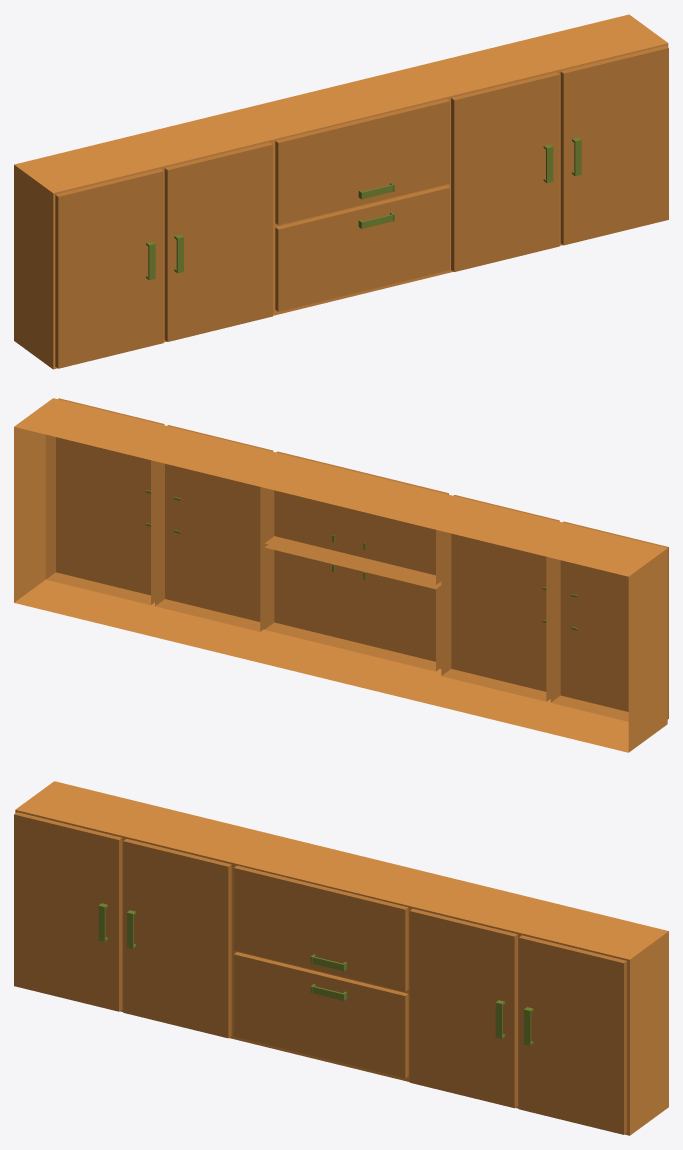
File: 4 lockers.fbx
The picture shows the model from 3 angles, top to bottom: view 1: azimuth 30°, elevation 25°; view 2: azimuth 150°, elevation 25°; view 3: azimuth 330°, elevation 25°; orthographic projection.
Parts seen in each view (by area): view 1: 4 lockers; view 2: 4 lockers; view 3: 4 lockers.
Boxes of the visible parts, x1,y1,x2,y2 form: 4 lockers: [14, 14, 668, 369]; 4 lockers: [14, 398, 668, 752]; 4 lockers: [14, 781, 668, 1135].
Size of the model in its own units: 176 by 48.07 by 22.57.
